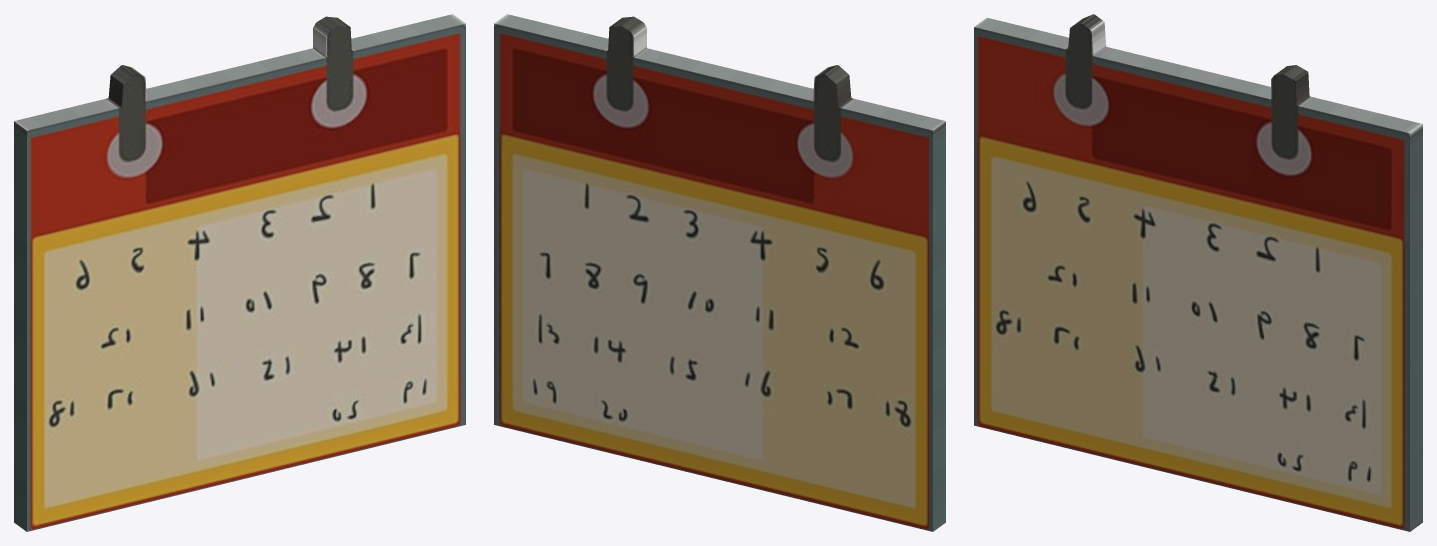
Rendered from Calendar.fbx.
3 renders of one model, left to right at view 1: azimuth 30°, elevation 25°; view 2: azimuth 150°, elevation 25°; view 3: azimuth 330°, elevation 25°, orthographic.
Visible parts, largest first — view 1: Plane; view 2: Plane; view 3: Plane.
Boxes of the visible parts, x1,y1,x2,y2 form: Plane: (14,14,465,531); Plane: (494,14,945,531); Plane: (974,14,1422,531).
Size of the model in its own units: 393 by 369 by 20.
